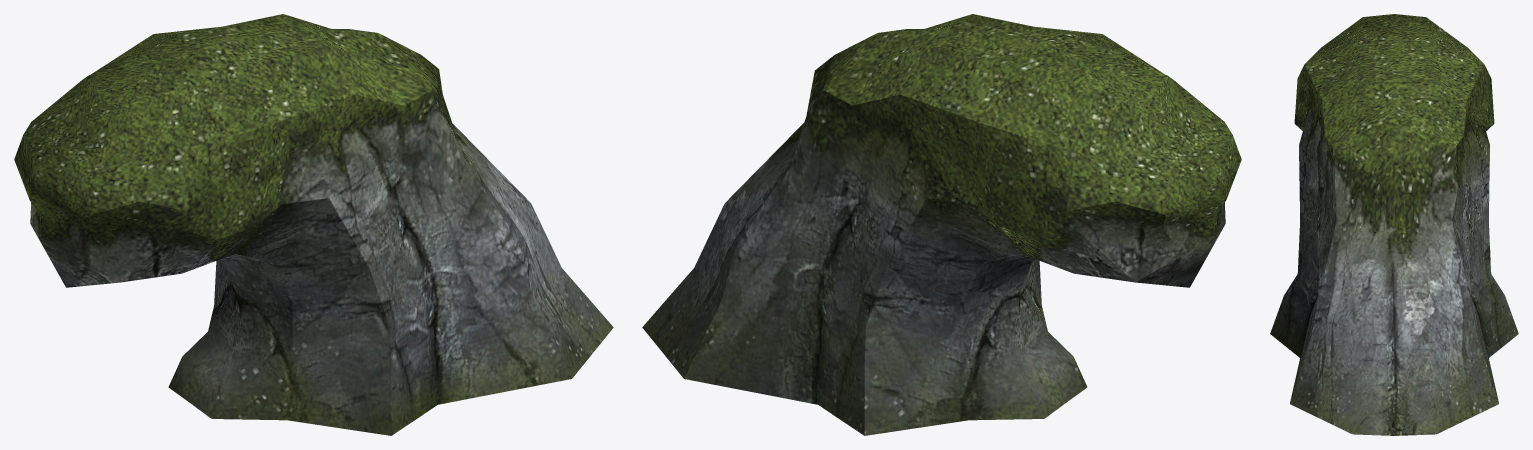
File: moss_rock_02.fbx
The picture shows the model from 3 angles, left to right: view 1: azimuth 30°, elevation 25°; view 2: azimuth 150°, elevation 25°; view 3: azimuth 270°, elevation 25°; orthographic projection. The views are drawn at different scales.
Visible parts, largest first — view 1: objMoss_rock02; view 2: objMoss_rock02; view 3: objMoss_rock02.
Part boxes in pixels (box(x1,y1,x2,y2)): objMoss_rock02: box(14, 14, 613, 435); objMoss_rock02: box(642, 14, 1241, 435); objMoss_rock02: box(1270, 14, 1518, 435).
Bounding box in the file's own units: 9.28 × 5.61 × 4.82.
